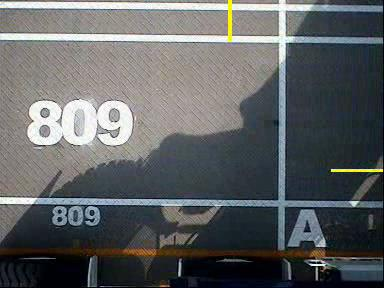groundmarker_2: (109, 110, 168, 143)
